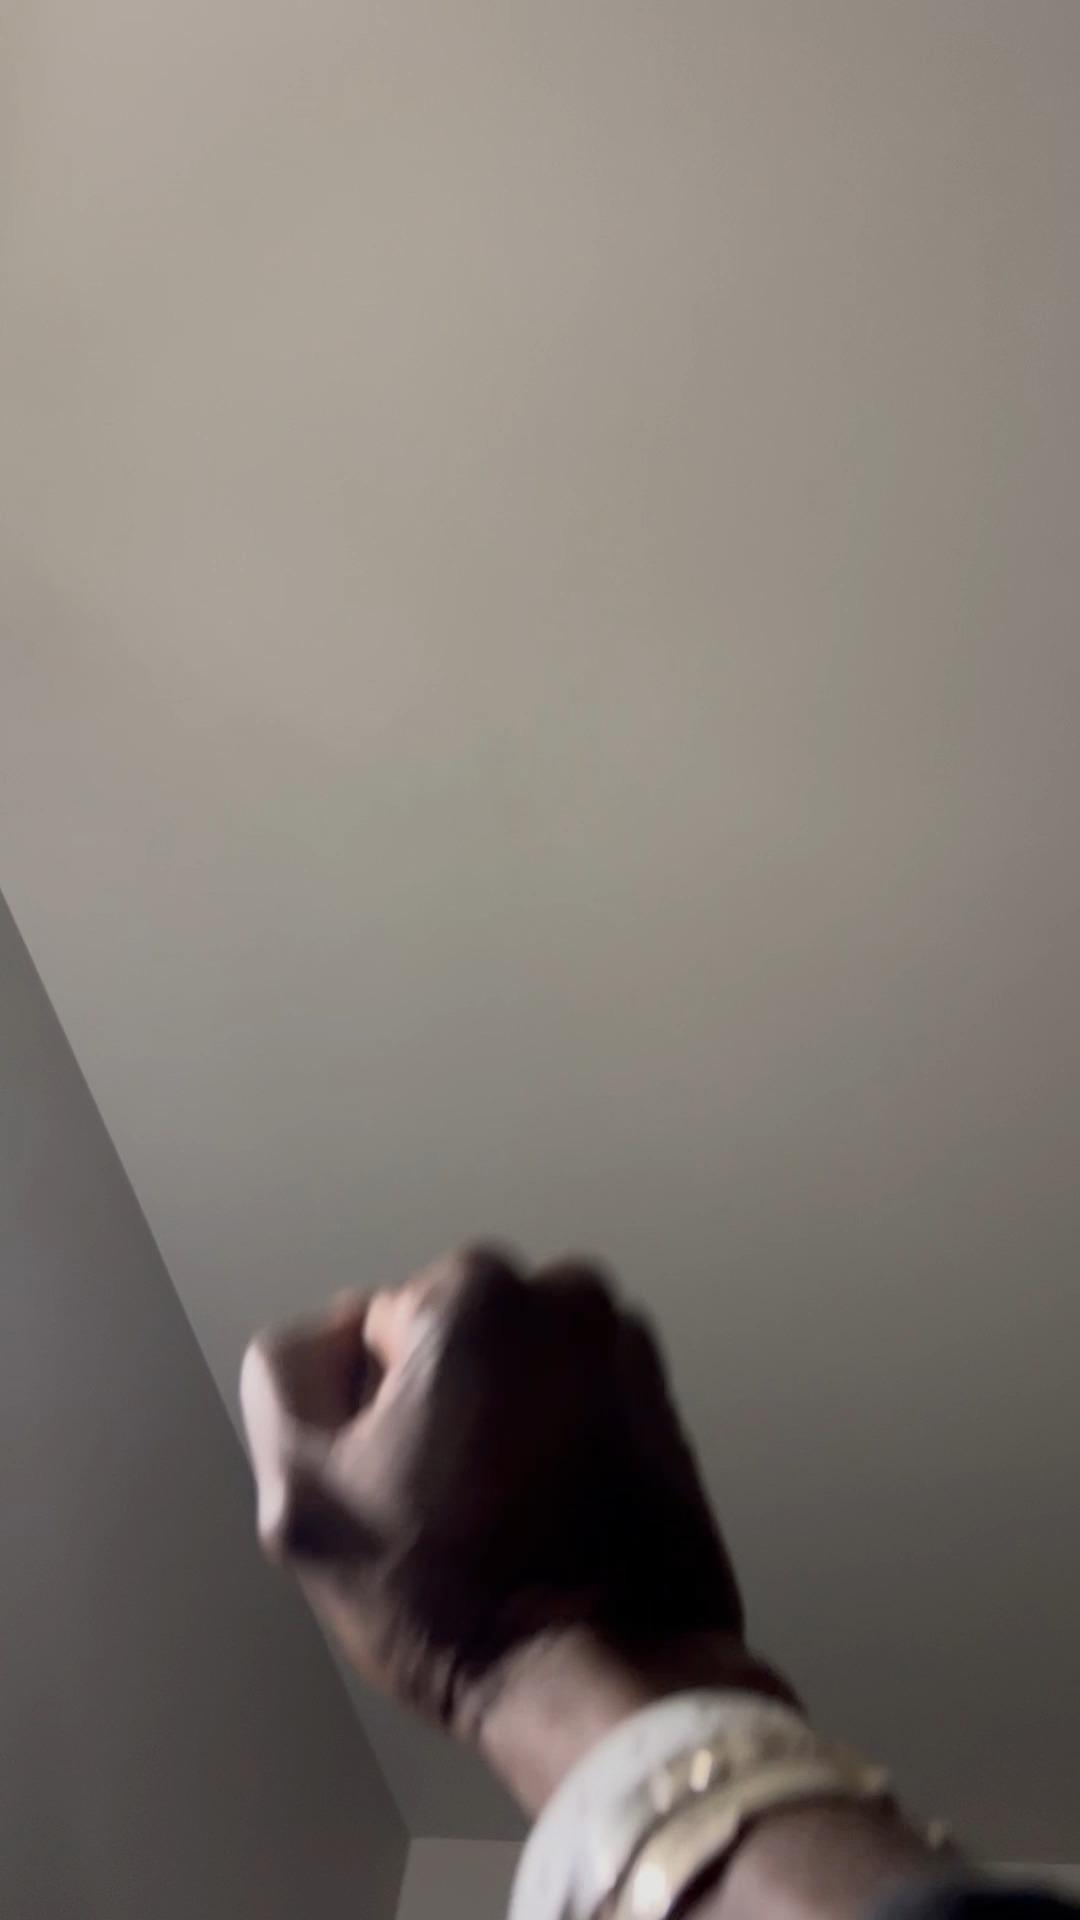Rock: (240, 1244, 740, 1750)
